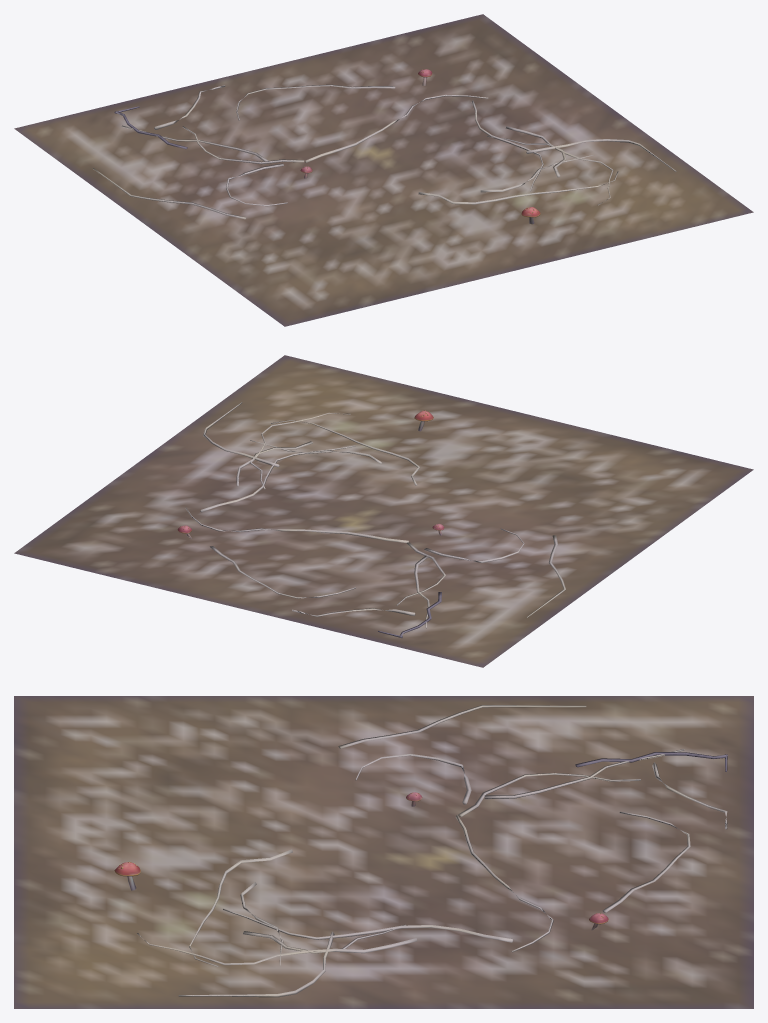
File: labirent_yol_a.glb
The picture shows the model from 3 angles, top to bottom: view 1: azimuth 30°, elevation 25°; view 2: azimuth 150°, elevation 25°; view 3: azimuth 270°, elevation 25°; orthographic projection. The views are drawn at different scales.
Visible parts, largest first — view 1: labirent_yol_a_LOD0; view 2: labirent_yol_a_LOD0; view 3: labirent_yol_a_LOD0.
Part boxes in pixels (left/top/right/bottom): labirent_yol_a_LOD0: left=14, top=14, right=753, bottom=326; labirent_yol_a_LOD0: left=14, top=355, right=753, bottom=667; labirent_yol_a_LOD0: left=14, top=696, right=753, bottom=1008.
Size of what is drawn, in the model's own units: 4 by 0.1992 by 4.
